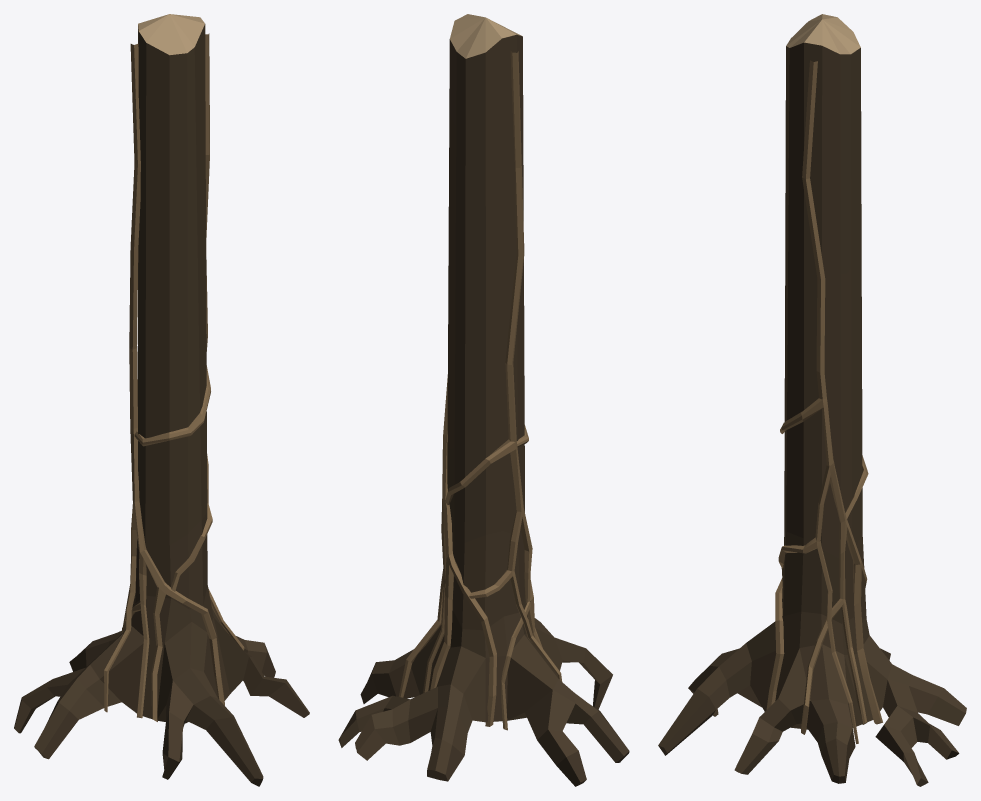
The model's file is SM_Env_Tree_Base_01.glb.
3 renders of one model, left to right at view 1: azimuth 30°, elevation 25°; view 2: azimuth 150°, elevation 25°; view 3: azimuth 270°, elevation 25°, orthographic.
Visible parts, largest first — view 1: SM_Env_Tree_Base_01; view 2: SM_Env_Tree_Base_01; view 3: SM_Env_Tree_Base_01.
Boxes of the visible parts, x1,y1,x2,y2 form: SM_Env_Tree_Base_01: [14, 14, 309, 786]; SM_Env_Tree_Base_01: [338, 14, 629, 786]; SM_Env_Tree_Base_01: [658, 14, 966, 786].
Size of the model in its own units: 0.0301 by 0.0819 by 0.0314.
